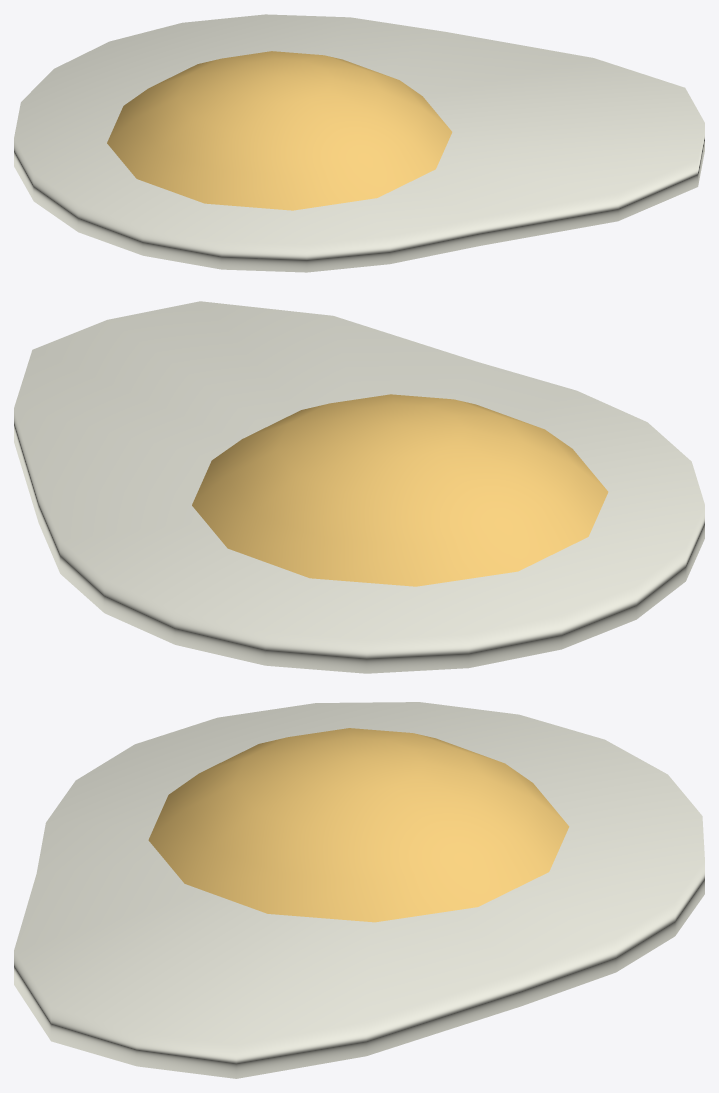
File: egg.fbx
The picture shows the model from 3 angles, top to bottom: view 1: azimuth 30°, elevation 25°; view 2: azimuth 150°, elevation 25°; view 3: azimuth 270°, elevation 25°; orthographic projection. The views are drawn at different scales.
Parts seen in each view (by area): view 1: pSphere2; view 2: pSphere2; view 3: pSphere2.
Boxes of the visible parts, box(x1,y1,x2,y2) form: pSphere2: box(14, 14, 704, 272); pSphere2: box(14, 301, 704, 673); pSphere2: box(14, 702, 704, 1078).
Bounding box in the file's own units: 17.27 × 2.54 × 14.71.
1 material, 1 textured.
